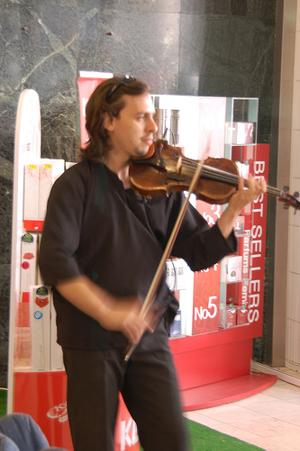person: (40, 77, 268, 451)
